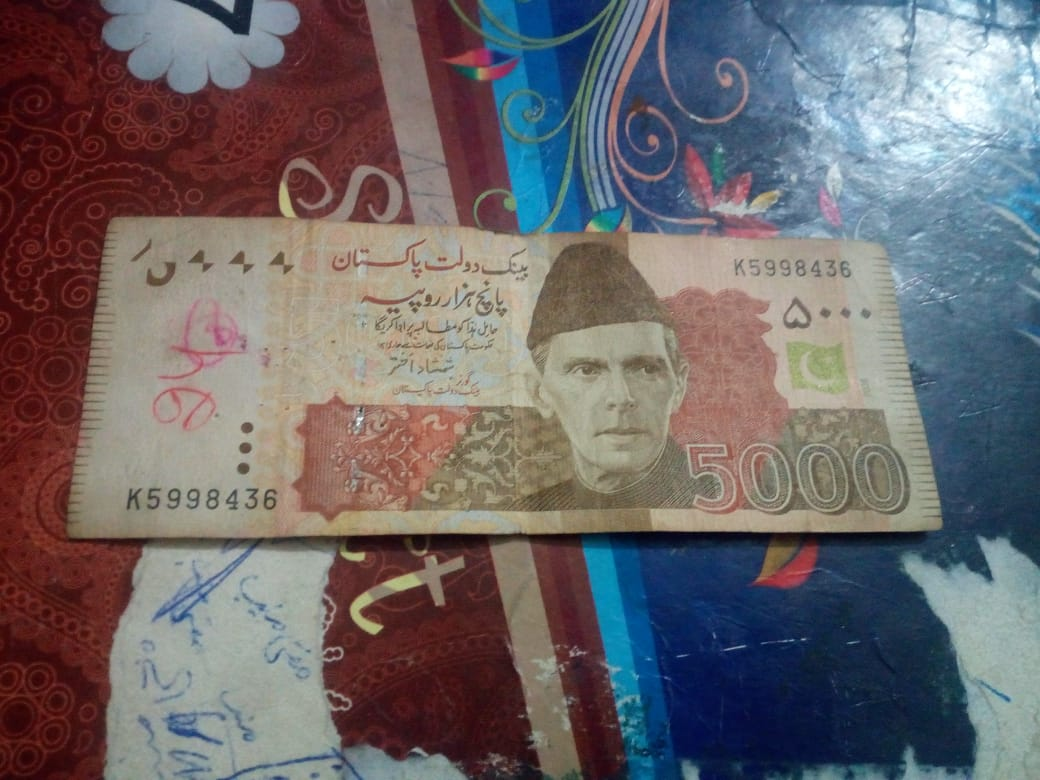5000 rupee: (59, 202, 947, 541)
